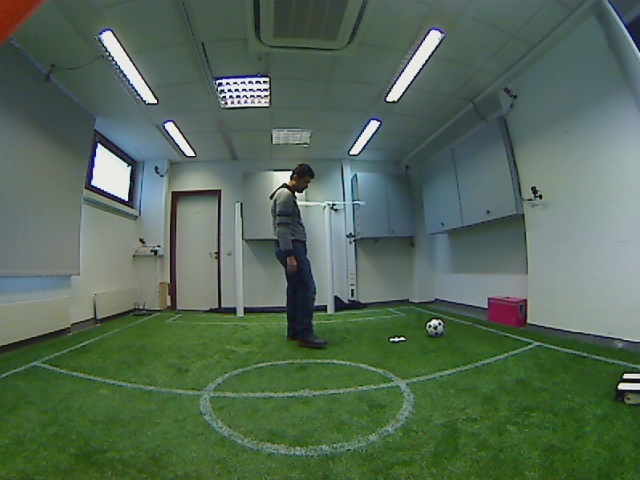ball: (423, 316, 447, 339)
